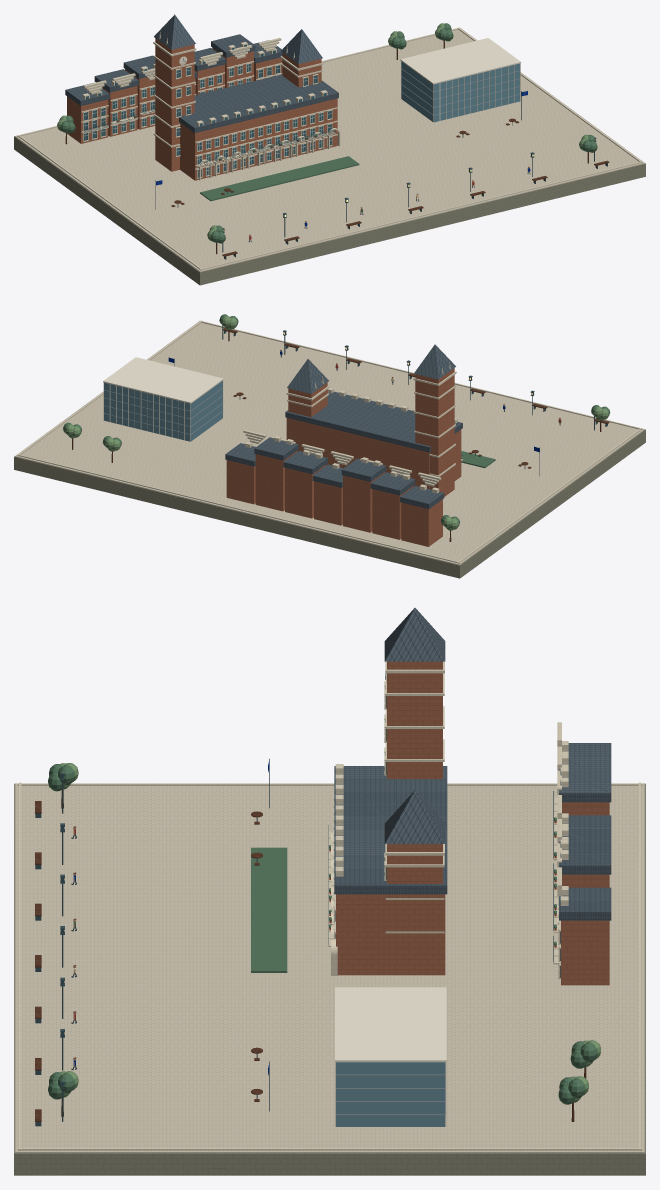
The model's file is haia-reference.glb.
The picture shows the model from 3 angles, top to bottom: view 1: azimuth 30°, elevation 25°; view 2: azimuth 150°, elevation 25°; view 3: azimuth 270°, elevation 25°; orthographic projection. The views are drawn at different scales.
Visible parts, largest first — view 1: haia_arquitetura_Calcada portuguesa, haia_arquitetura_Tijolo flamengo, haia_arquitetura_Cantaria clara, haia_arquitetura_Corte de terreno, haia_arquitetura_Ardosia europeia, haia_arquitetura_Marfim pintado, haia_arquitetura_Vidro institucional, haia_arquitetura_Vidro das janelas, haia_arquitetura_Folhagem, haia_arquitetura_Ferro pintado da ponte, haia_arquitetura_Madeira de rabelo, haia_arquitetura_Aco polido (+1 smaller); view 2: haia_arquitetura_Calcada portuguesa, haia_arquitetura_Tijolo flamengo, haia_arquitetura_Ardosia europeia, haia_arquitetura_Corte de terreno, haia_arquitetura_Cantaria clara, haia_arquitetura_Vidro institucional, haia_arquitetura_Marfim pintado, haia_arquitetura_Folhagem clara, haia_arquitetura_Folhagem, haia_arquitetura_Aco polido, haia_arquitetura_Madeira de rabelo, haia_arquitetura_Ferro pintado da ponte; view 3: haia_arquitetura_Calcada portuguesa, haia_arquitetura_Tijolo flamengo, haia_arquitetura_Ardosia europeia, haia_arquitetura_Corte de terreno, haia_arquitetura_Cantaria clara, haia_arquitetura_Marfim pintado, haia_arquitetura_Folhagem, haia_arquitetura_Vidro institucional, haia_arquitetura_Ferro pintado da ponte, haia_arquitetura_Madeira de rabelo.
Boxes of the visible parts, x1,y1,x2,y2 form: haia_arquitetura_Calcada portuguesa: [15, 28, 644, 271]; haia_arquitetura_Tijolo flamengo: [67, 38, 337, 180]; haia_arquitetura_Cantaria clara: [17, 27, 642, 270]; haia_arquitetura_Corte de terreno: [14, 136, 645, 285]; haia_arquitetura_Ardosia europeia: [65, 14, 338, 133]; haia_arquitetura_Marfim pintado: [84, 38, 521, 174]; haia_arquitetura_Vidro institucional: [401, 61, 519, 122]; haia_arquitetura_Vidro das janelas: [84, 44, 331, 177]; haia_arquitetura_Folhagem: [60, 23, 597, 243]; haia_arquitetura_Ferro pintado da ponte: [84, 58, 607, 259]; haia_arquitetura_Madeira de rabelo: [65, 40, 609, 256]; haia_arquitetura_Aco polido: [401, 65, 520, 115]; haia_arquitetura_Calcada portuguesa: [15, 321, 644, 565]; haia_arquitetura_Tijolo flamengo: [226, 368, 461, 546]; haia_arquitetura_Ardosia europeia: [225, 344, 462, 508]; haia_arquitetura_Corte de terreno: [14, 429, 645, 578]; haia_arquitetura_Cantaria clara: [17, 320, 642, 563]; haia_arquitetura_Vidro institucional: [104, 380, 222, 441]; haia_arquitetura_Marfim pintado: [103, 357, 223, 441]; haia_arquitetura_Folhagem clara: [65, 315, 609, 530]; haia_arquitetura_Folhagem: [63, 314, 610, 525]; haia_arquitetura_Aco polido: [104, 382, 223, 434]; haia_arquitetura_Madeira de rabelo: [72, 328, 609, 541]; haia_arquitetura_Ferro pintado da ponte: [174, 325, 607, 475]; haia_arquitetura_Calcada portuguesa: [15, 783, 644, 1152]; haia_arquitetura_Tijolo flamengo: [336, 661, 609, 985]; haia_arquitetura_Ardosia europeia: [334, 608, 611, 920]; haia_arquitetura_Corte de terreno: [14, 783, 645, 1175]; haia_arquitetura_Cantaria clara: [17, 661, 642, 1150]; haia_arquitetura_Marfim pintado: [335, 673, 446, 1126]; haia_arquitetura_Folhagem: [48, 764, 597, 1104]; haia_arquitetura_Vidro institucional: [336, 1062, 445, 1126]; haia_arquitetura_Ferro pintado da ponte: [35, 673, 553, 1126]; haia_arquitetura_Madeira de rabelo: [35, 789, 586, 1121].
Size of the model in its own units: 72 by 25 by 52.
22 materials, 7 textured.
